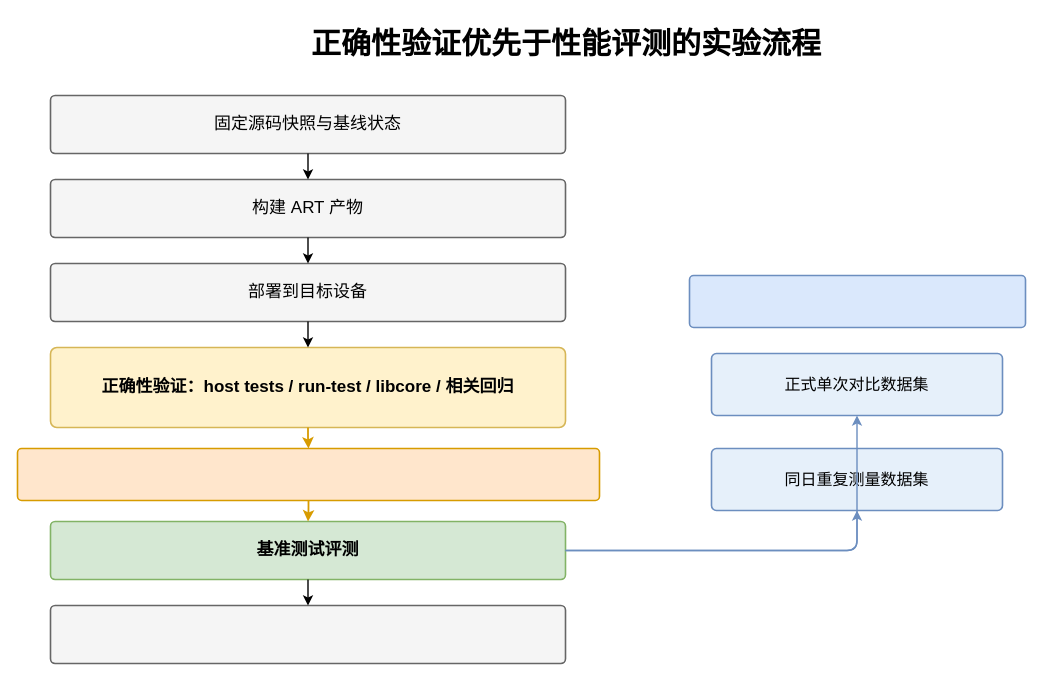
Image size: 1044x681. Some labels were removed from this diagram. The centre of each missing label's shape, as x and y in pixels:
"仅验证通过的版本才可进入性能比较" belongs at point (308, 474).
"归档日志与分析产物" belongs at point (307, 634).
"数据集组织" belongs at point (857, 301).
